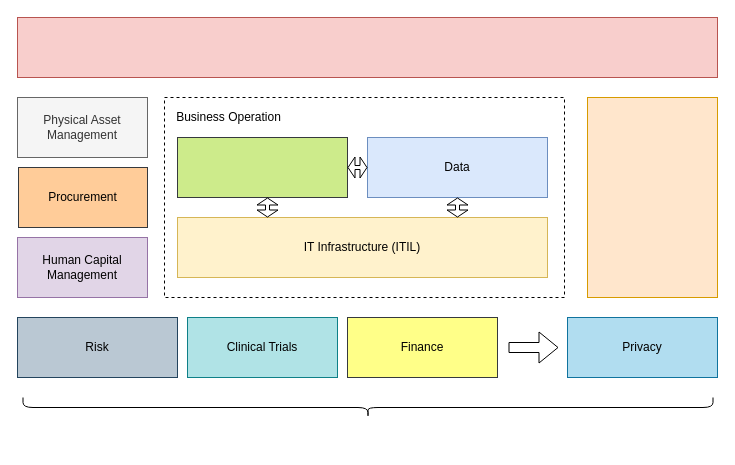
Image size: 735x465. Some labels were removed from this diagram. Each missing label, with the box of its shape:
Corporate Governance: (16, 16, 718, 78)
Interact with Specific Regulators: (22, 396, 713, 418)
Security: (176, 136, 348, 198)
Software Development Lifecycle: (586, 96, 718, 298)
